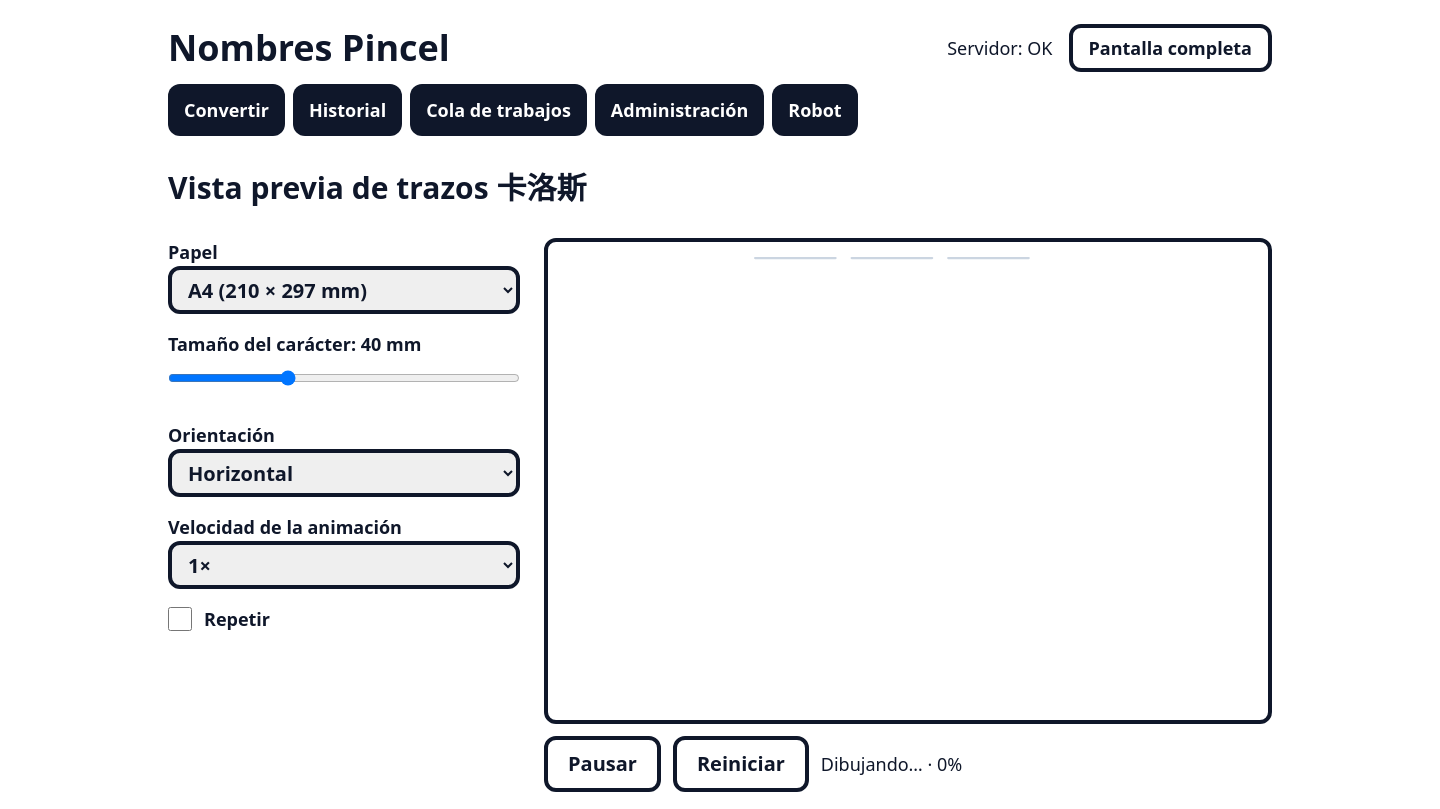
Scenario: PreviewPage › permite un papel personalizado
Expected: the picture is shown, x1=544 y1=238 x2=1272 y2=724
Select "Personalizado" in the dropdown labelled "Papel" at (344, 290), box x1=168 y1=266 x2=520 y2=314
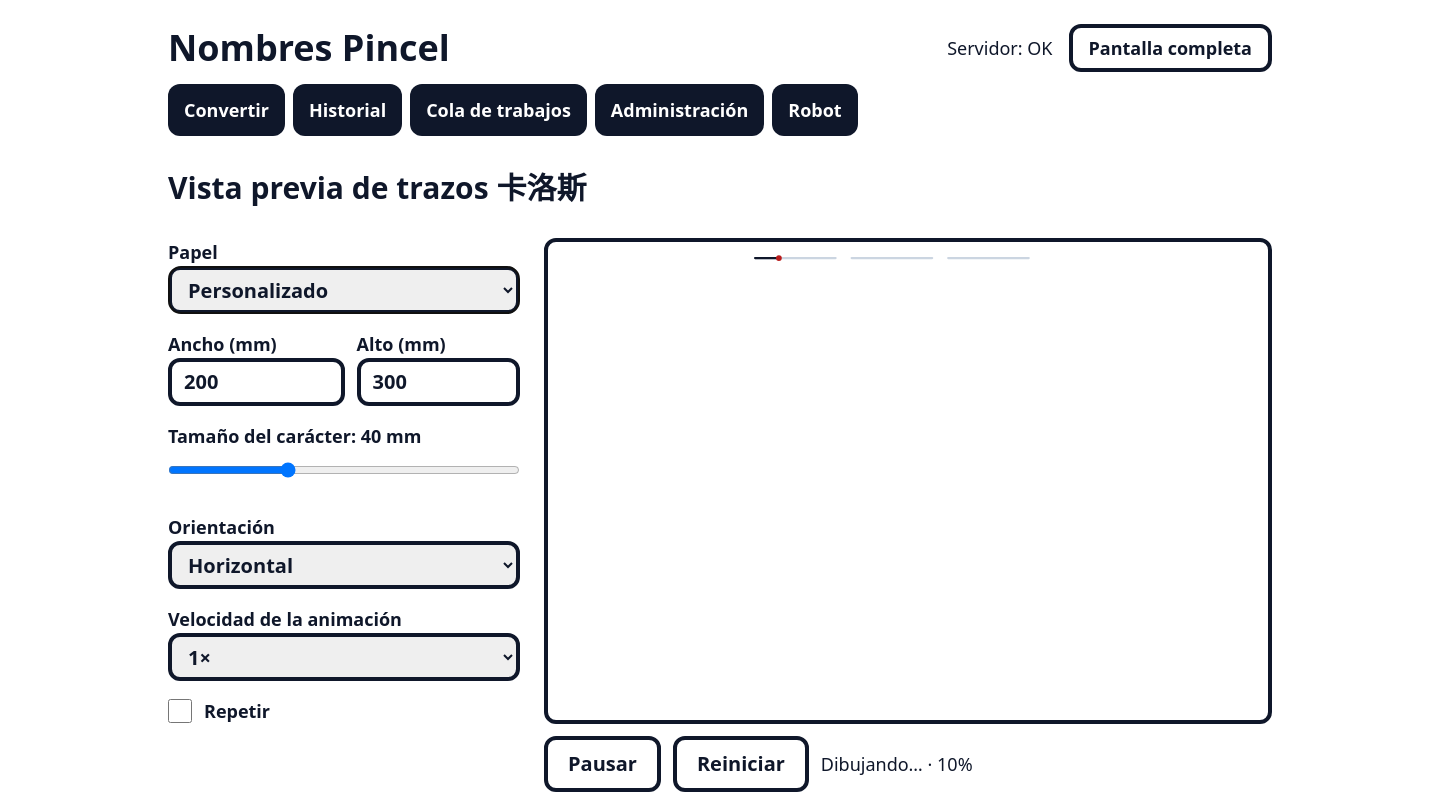
Result: the number field labelled "Ancho (mm)" holds "200" at x1=168 y1=358 x2=345 y2=406
Result: the number field labelled "Alto (mm)" holds "300" at x1=357 y1=358 x2=520 y2=406
